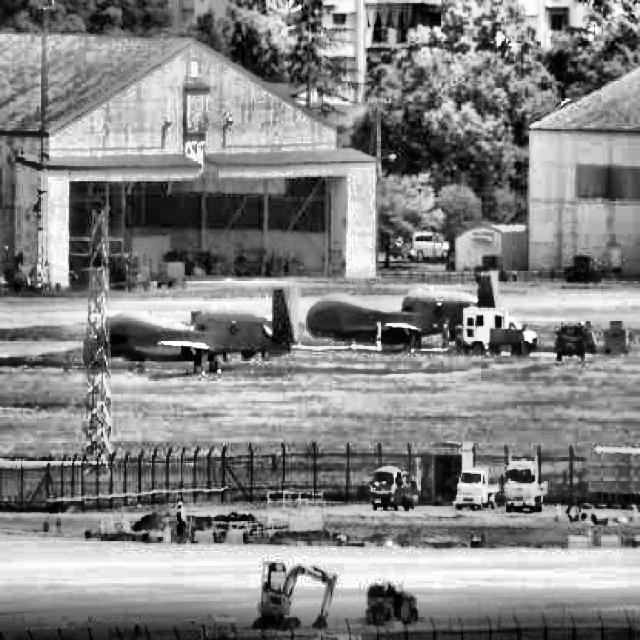RQ4: (96, 284, 301, 374), (306, 270, 500, 352)
